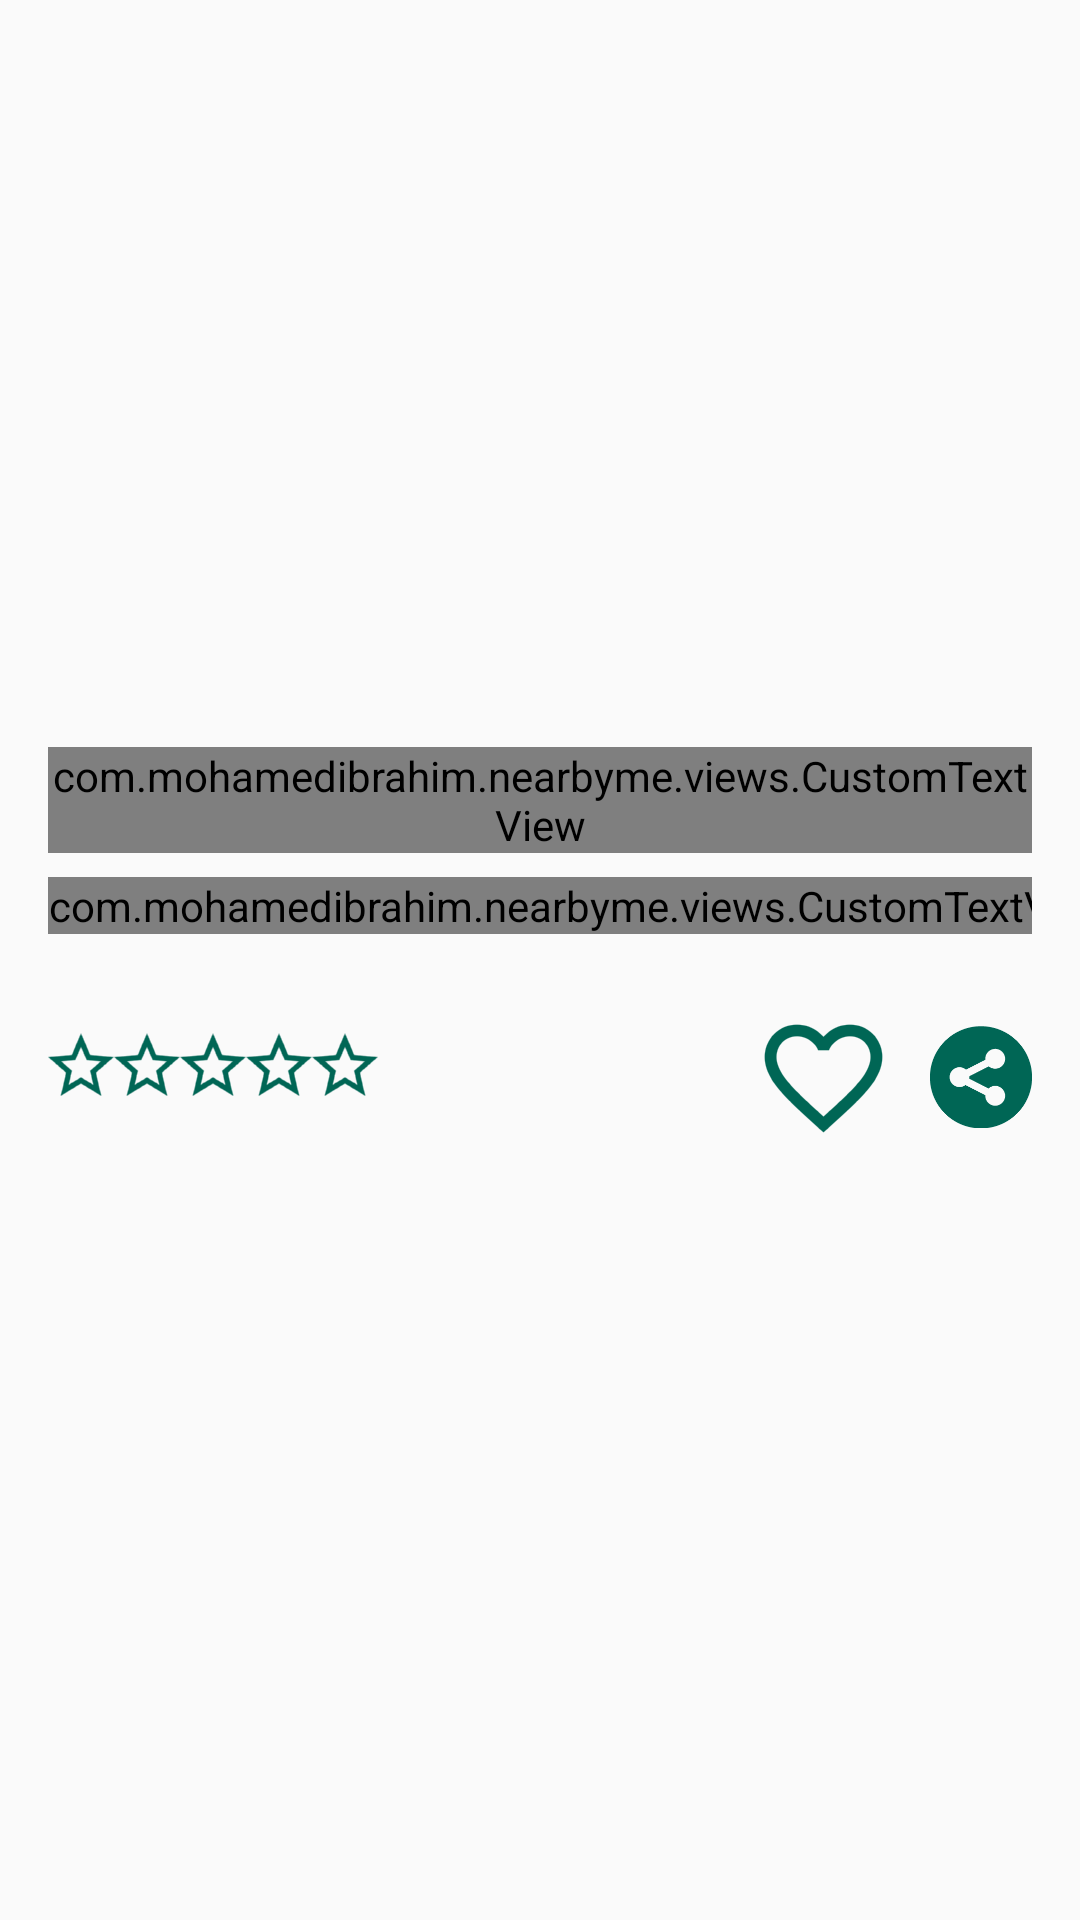

Icon bounding boxes for this 1080×1920 phone screenshot, format box=[x1, y1, x2, y2]:
like: box=[764, 1024, 883, 1133]
Share button: box=[930, 1026, 1032, 1128]
